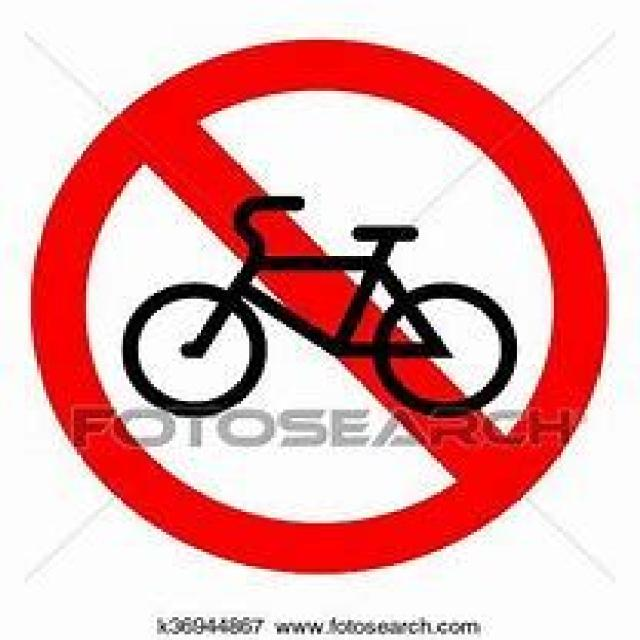cycle_prohibited: (31, 37, 603, 572)
